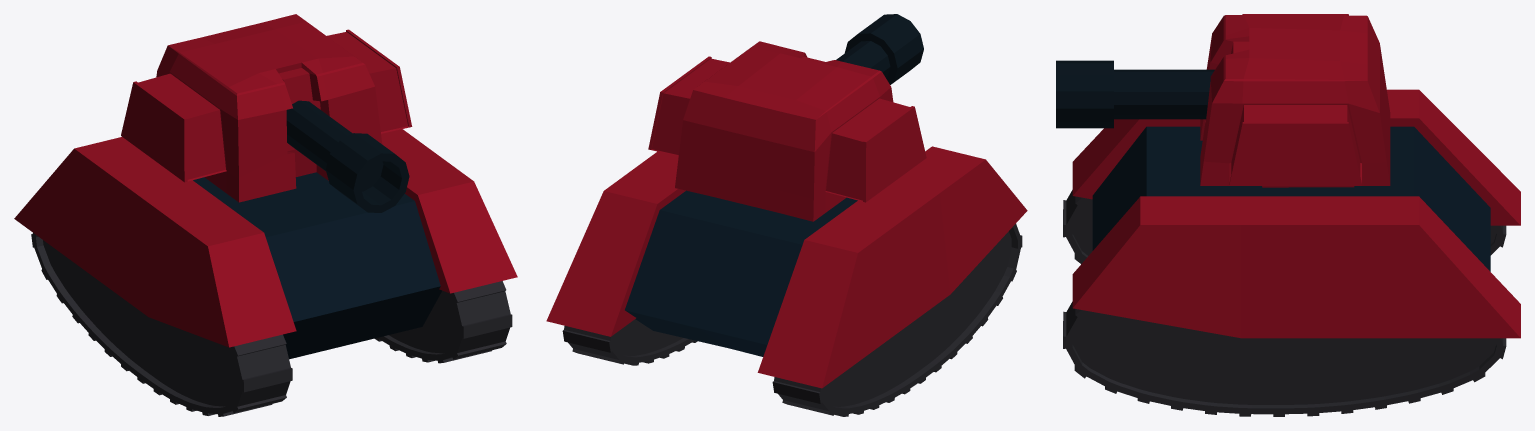
Rendered from tank.glb.
3 renders of one model, left to right at view 1: azimuth 30°, elevation 25°; view 2: azimuth 150°, elevation 25°; view 3: azimuth 270°, elevation 25°, orthographic. The views are drawn at different scales.
Parts seen in each view (by area): view 1: tank_originial; view 2: tank_originial; view 3: tank_originial.
Part boxes in pixels (x1,y1,x2,y2): tank_originial: (14, 14, 517, 416); tank_originial: (546, 14, 1027, 416); tank_originial: (1056, 14, 1520, 416).
Bounding box in the file's own units: 2.49 × 2.42 × 3.34.
